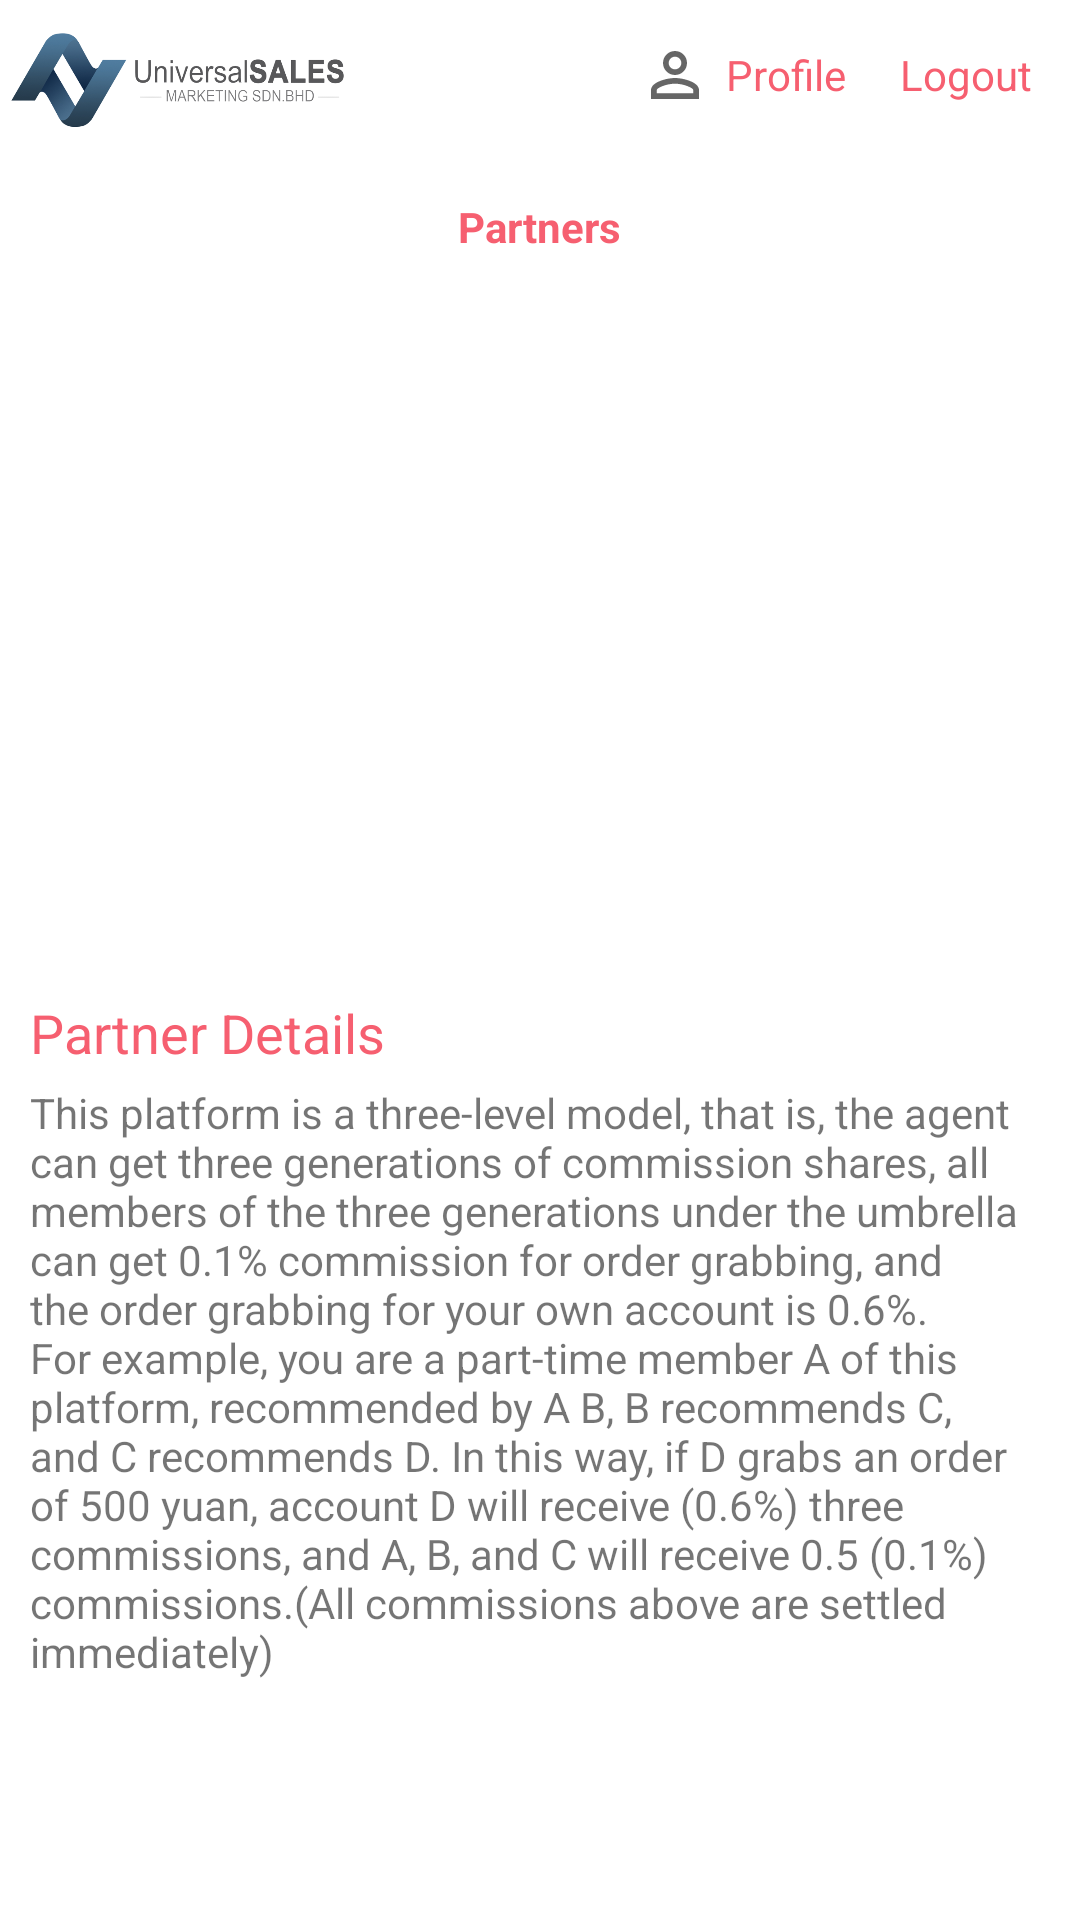

Screen size 1080px×1920px. Icon name, then its center in pixels as (x,y):
person: (675,75)
